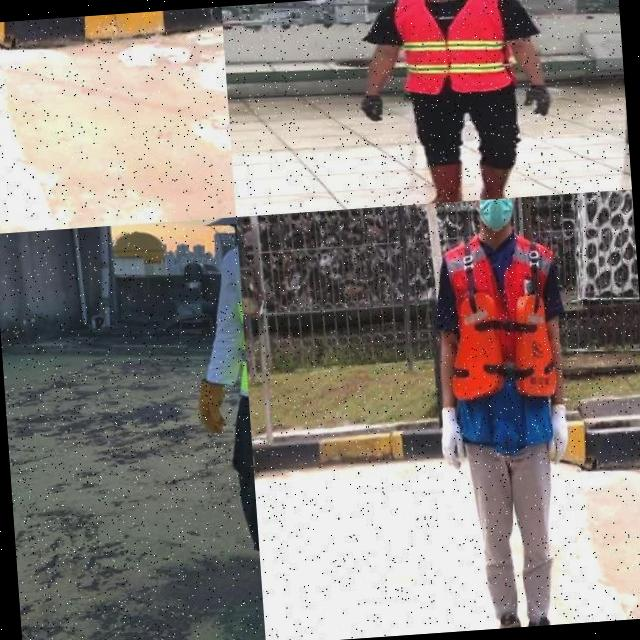boots: (413, 160, 465, 204), (472, 160, 520, 200), (485, 608, 524, 630)
vest: (432, 225, 566, 456), (390, 0, 518, 98)
